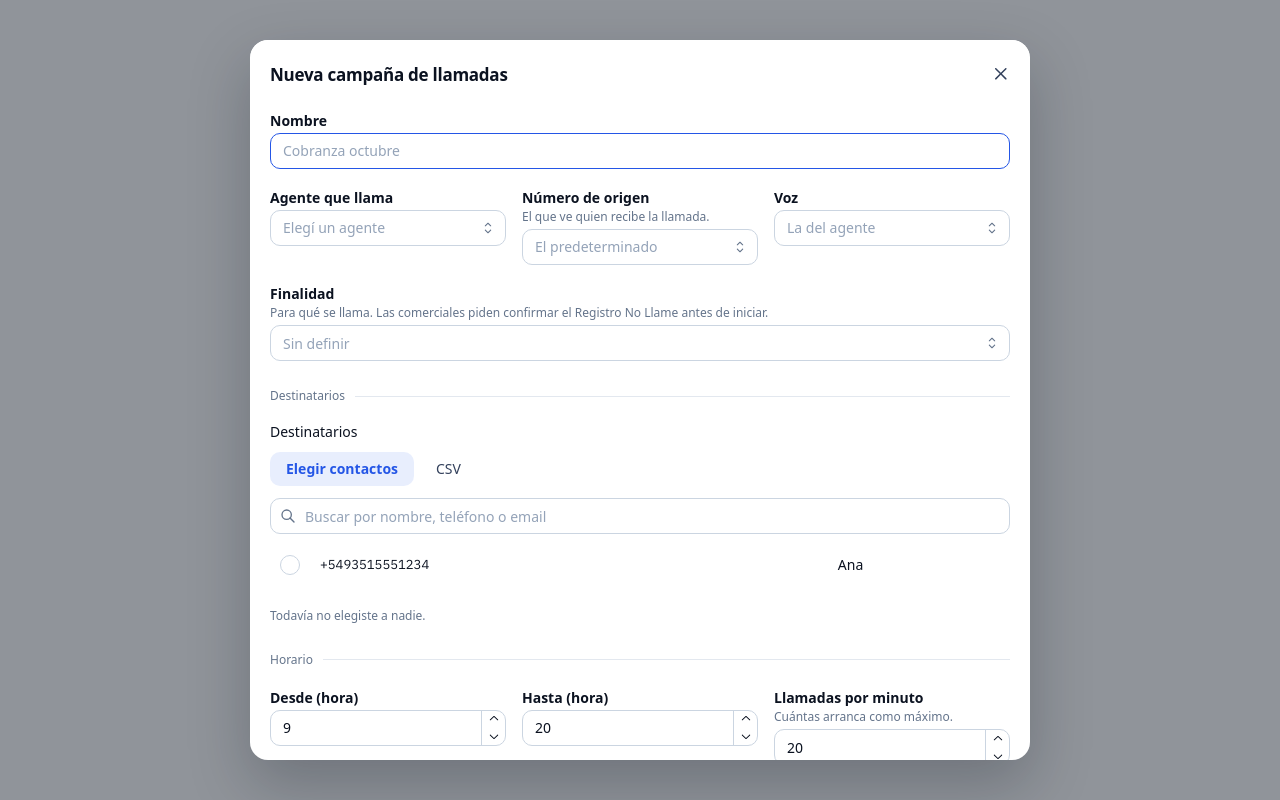
Test: campañas: alta de llamadas › crea el borrador con los contactos elegidos, el horario y los reintentos
Type "Mora octubre" into the field labelled "Nombre" at (640, 151), box [270, 133, 1010, 169]
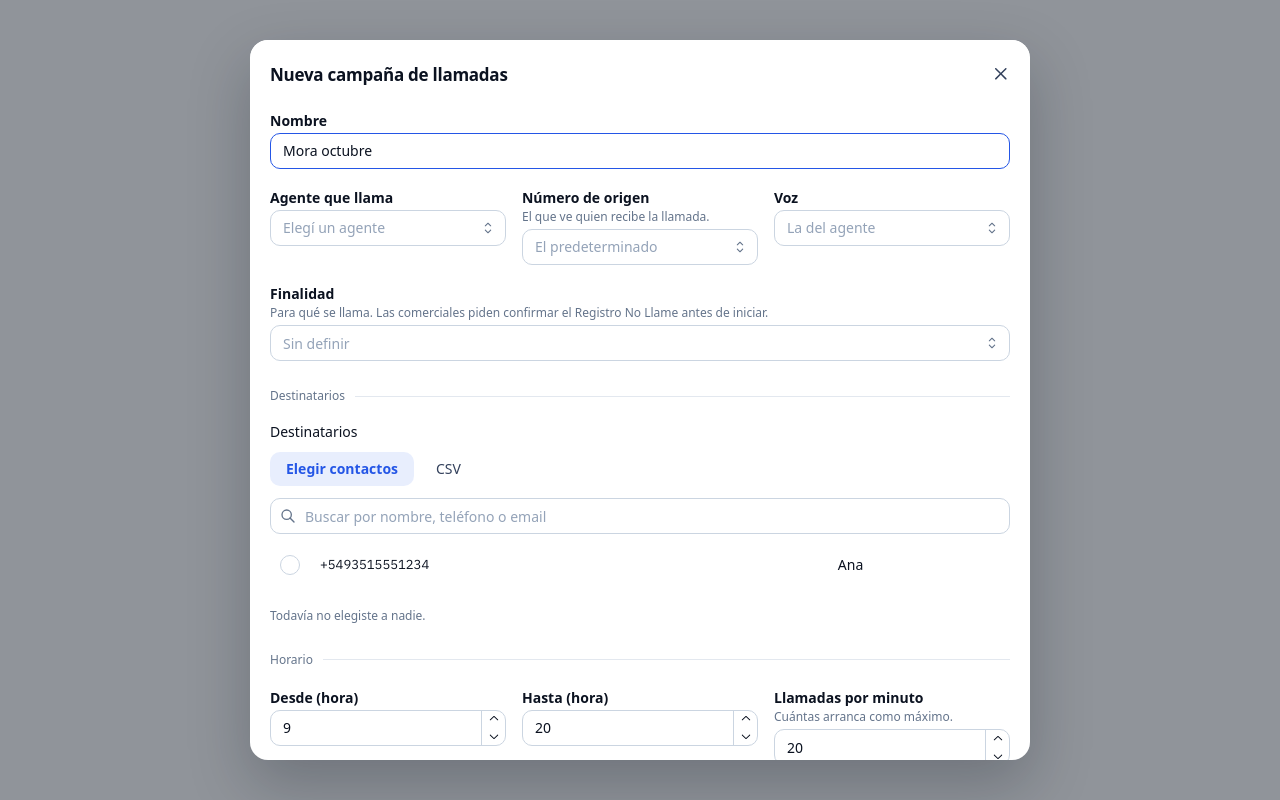
Click the field labelled "Agente que llama" at (388, 228), box [270, 210, 506, 246]
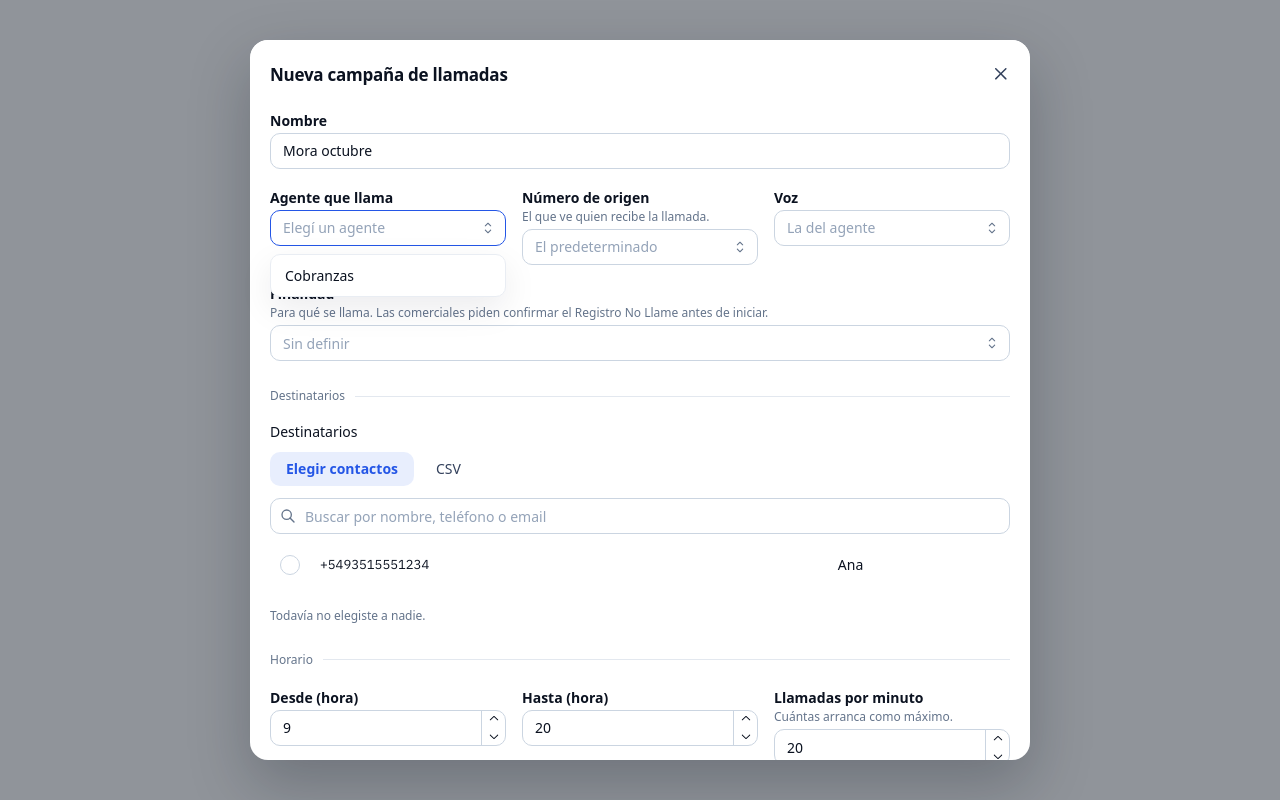
Click the option "Cobranzas" at (320, 275), box [285, 266, 354, 285]
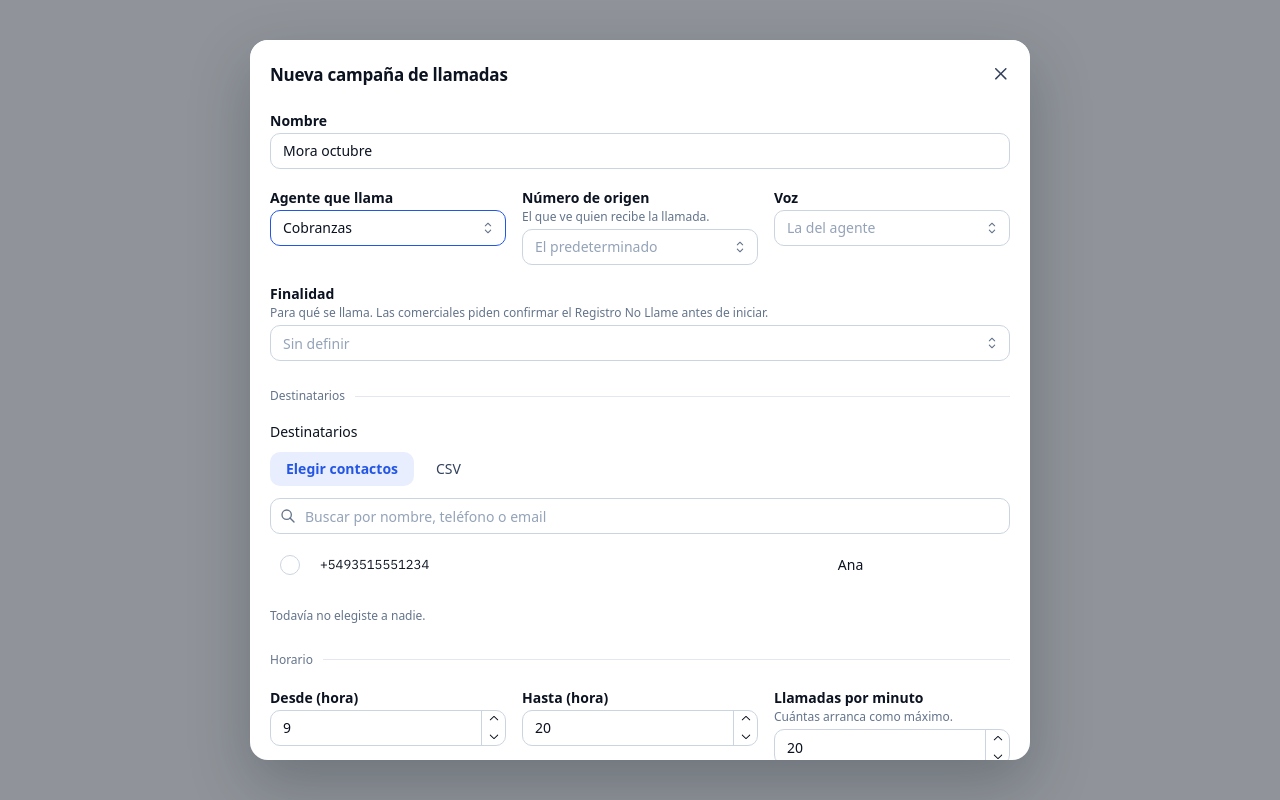
Click the checkbox named "Elegir Ana" at (290, 565), box [280, 555, 300, 575]
(page scrolled)
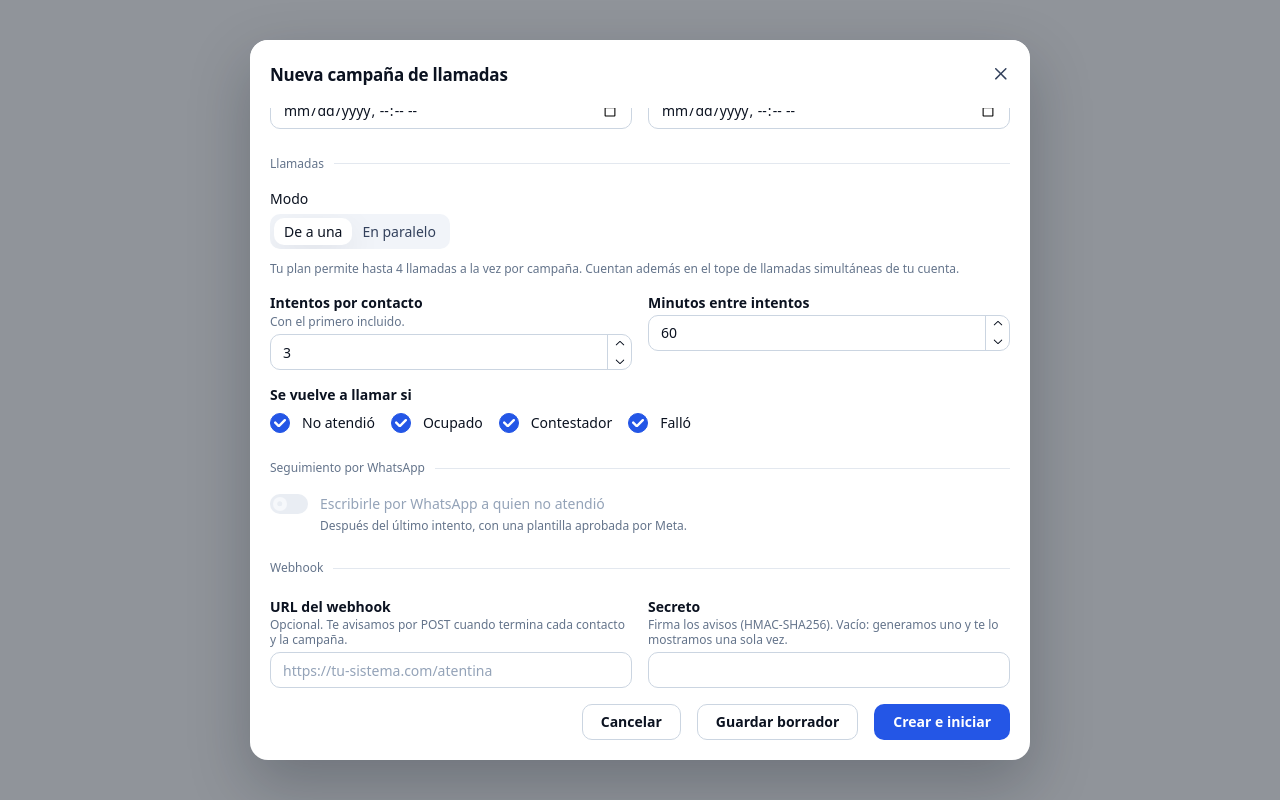
Click the button "Guardar borrador" at (778, 722), box [697, 704, 858, 740]
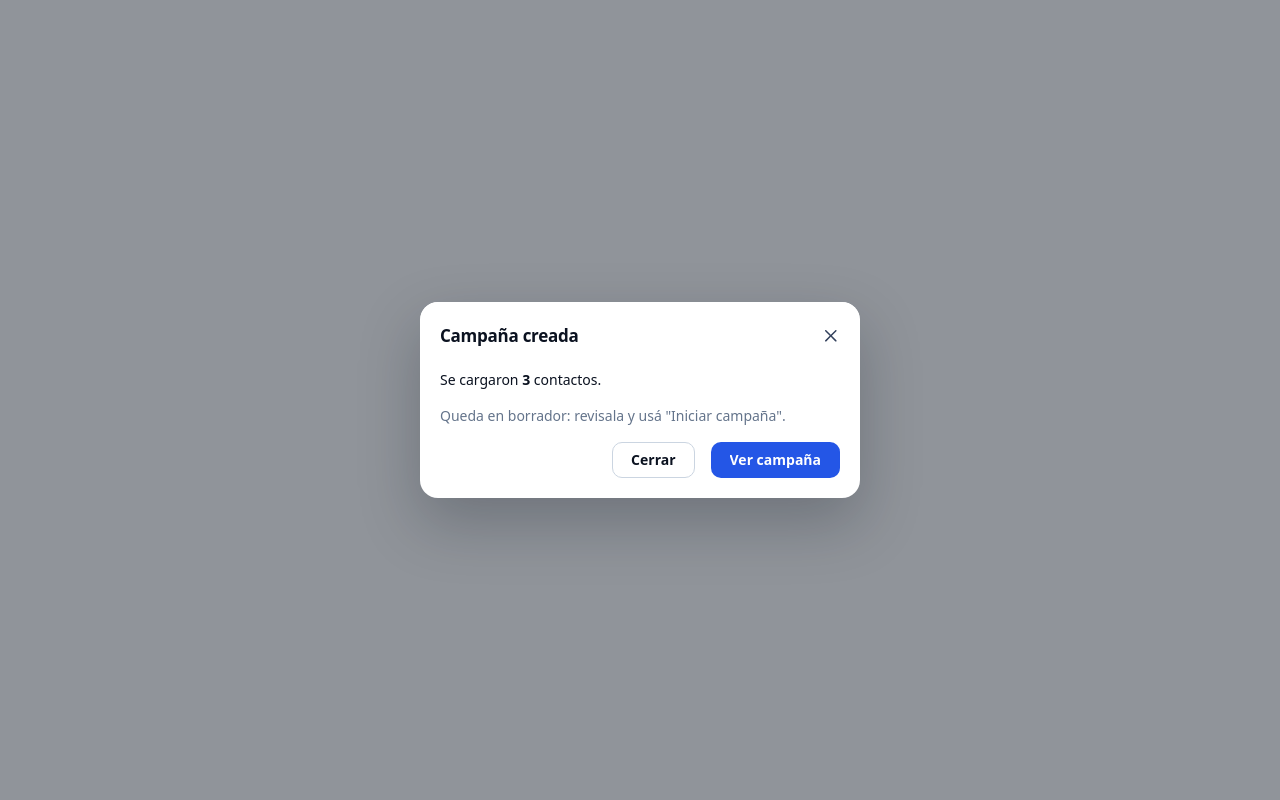
Expected: the heading "Campaña creada" is shown, [440, 327, 579, 344]
Expected: the button "Ver campaña" is shown, [710, 442, 840, 478]
